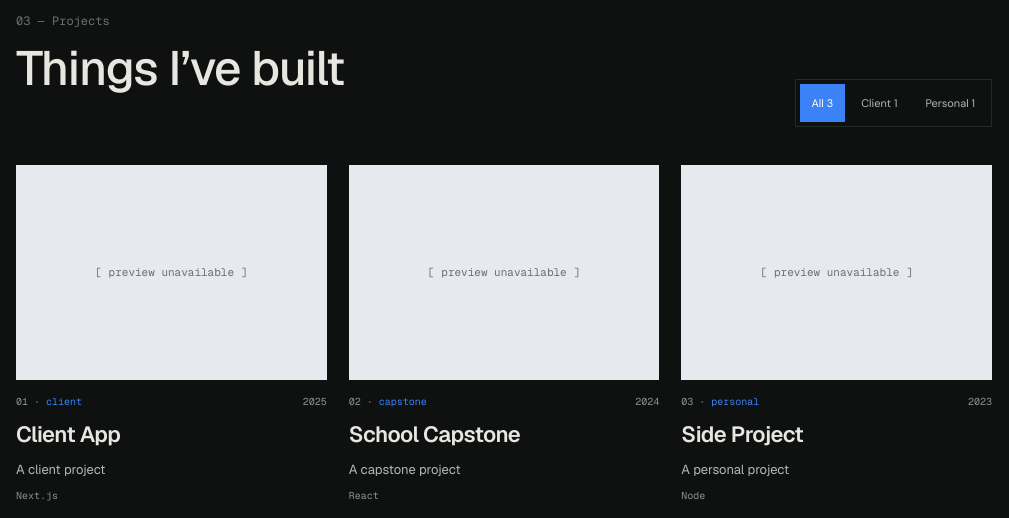
it: Projects › filters the table when a provenance filter is clicked
Click the button "Client 1" at (879, 103), box [849,84,909,122]
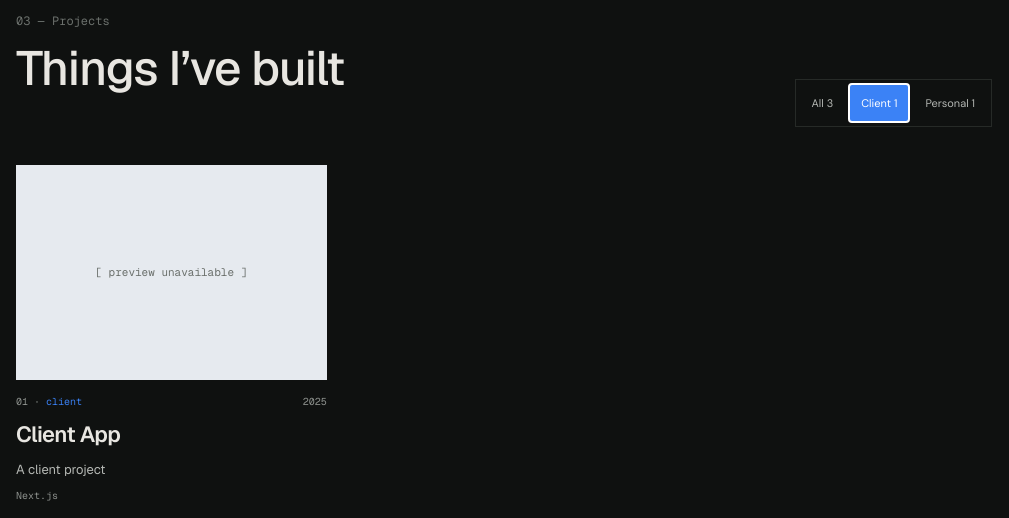
Expected: the text "Client App" is shown, [16,420,120,448]
Expected: the link "School Capstone" is gone
Expected: the link "Side Project" is gone
